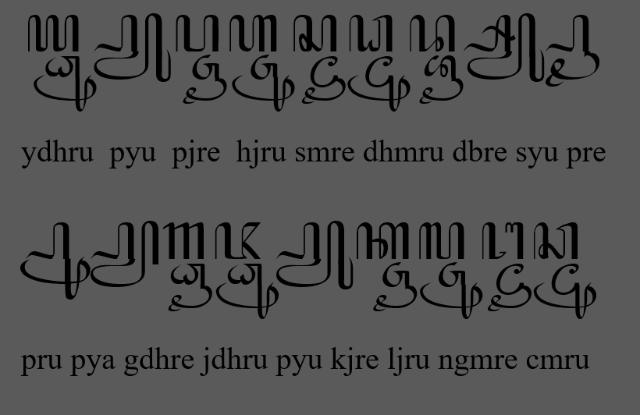_bre: (418, 54, 464, 106)
_dhre: (168, 262, 212, 312)
_dhru: (33, 54, 97, 112), (215, 262, 279, 320)
_jre: (182, 53, 228, 105), (372, 262, 418, 312)
_jru: (231, 54, 295, 113), (420, 262, 482, 320)
_mre: (300, 55, 346, 105), (486, 263, 532, 313)
_mru: (347, 56, 411, 112), (534, 264, 596, 320)
_pre: (546, 14, 600, 88)
_pru: (19, 221, 91, 301)
_py: (90, 220, 160, 290)
_pyu: (276, 219, 354, 291), (94, 11, 172, 82)
_syu: (462, 11, 546, 82)
c: (533, 222, 579, 260)
d: (408, 13, 456, 53)
dh: (348, 15, 392, 53)
g: (162, 222, 206, 260)
h: (228, 15, 278, 54)
j: (214, 222, 262, 260)
k: (356, 222, 410, 260)
l: (418, 222, 464, 260)
nga: (482, 221, 524, 261)
p: (175, 15, 219, 53)
s: (293, 14, 337, 52)
y: (26, 14, 80, 52)
